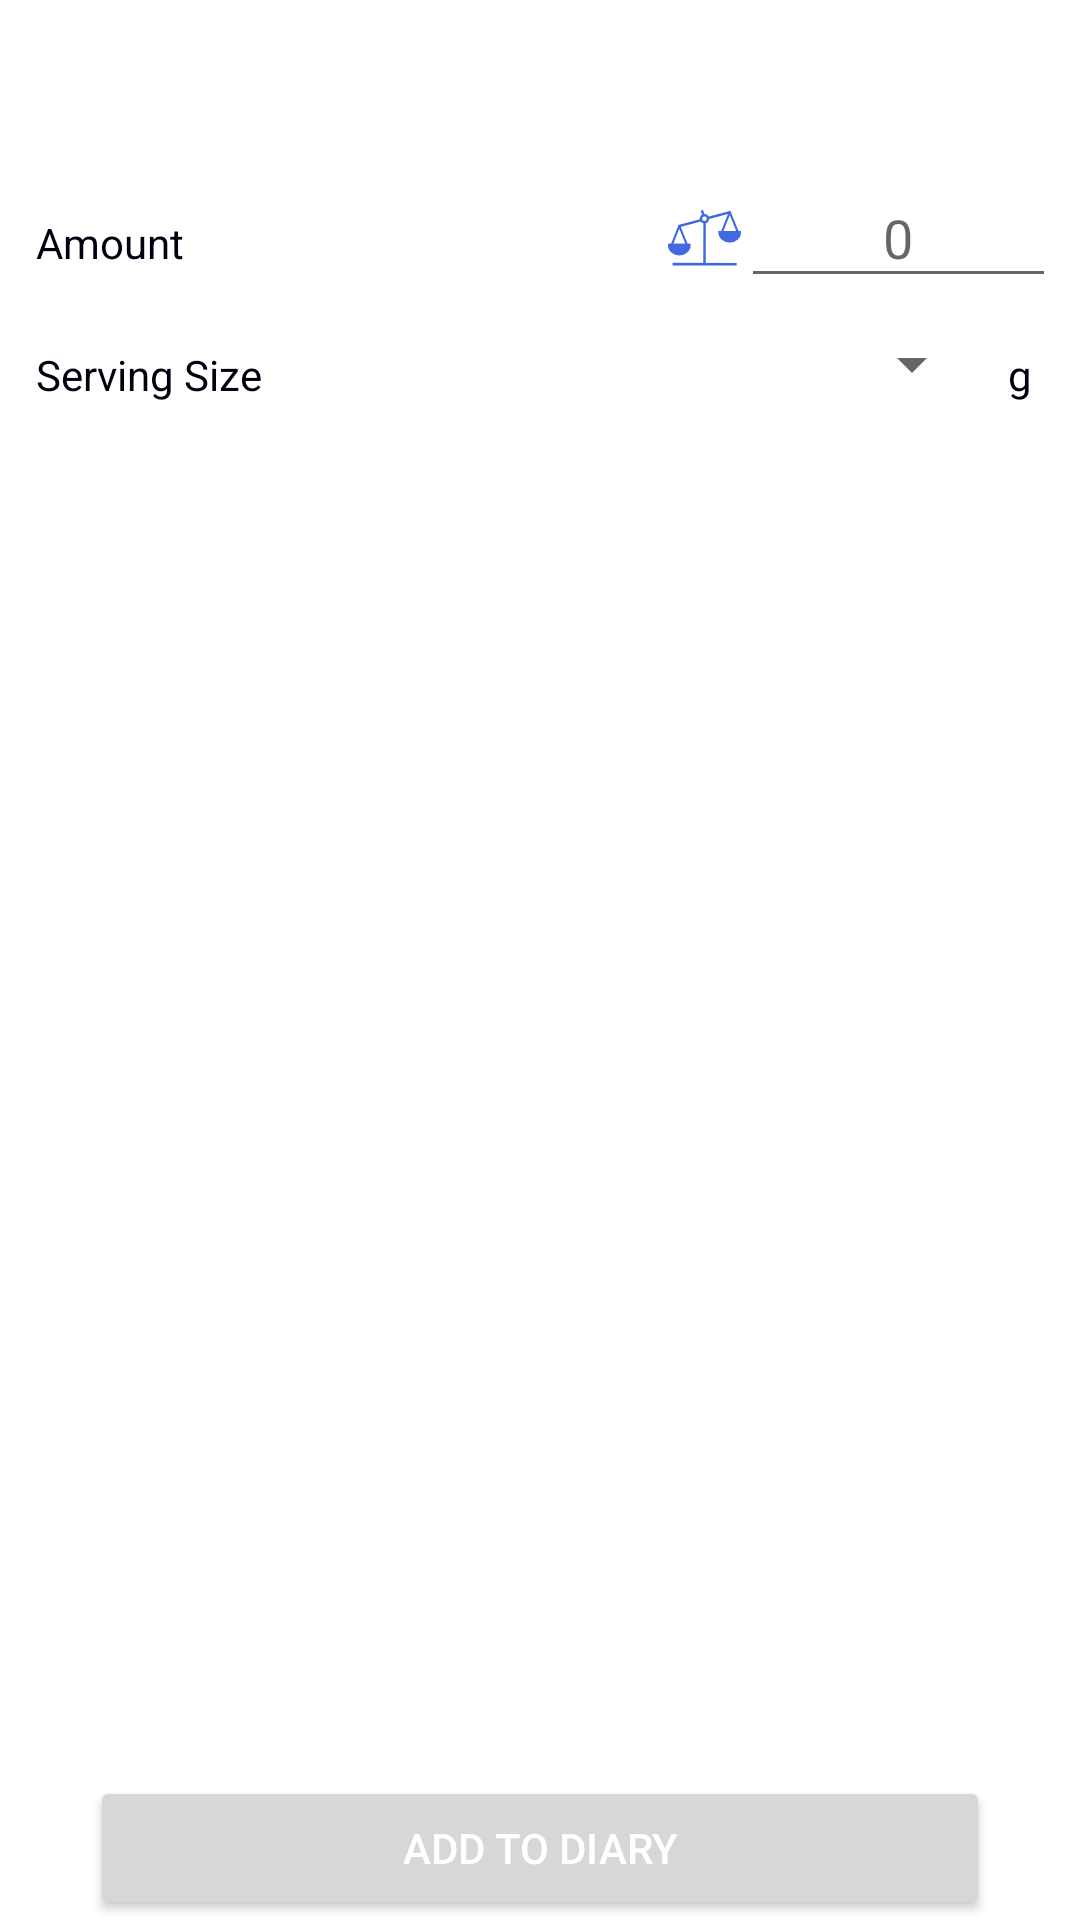

Named icons in this screenshot (1080 × 1920) and their bounding boxes, (x1, y1, x2, y2):
food scale: (668, 210, 741, 266)
